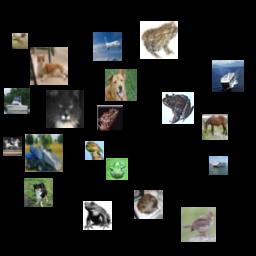airplane: (93, 32, 122, 61)
bird: (181, 207, 216, 242), (85, 141, 104, 160)
cat: (46, 90, 84, 128), (30, 47, 68, 85), (134, 190, 163, 219)
deer: (12, 33, 28, 49)
dog: (105, 69, 137, 101), (24, 178, 53, 207)
frog: (140, 21, 178, 59), (162, 92, 194, 124), (83, 201, 112, 230), (97, 105, 123, 131), (106, 158, 128, 180)
ship: (212, 60, 244, 92), (4, 88, 30, 114), (209, 156, 228, 175)
truck: (25, 134, 63, 172)
